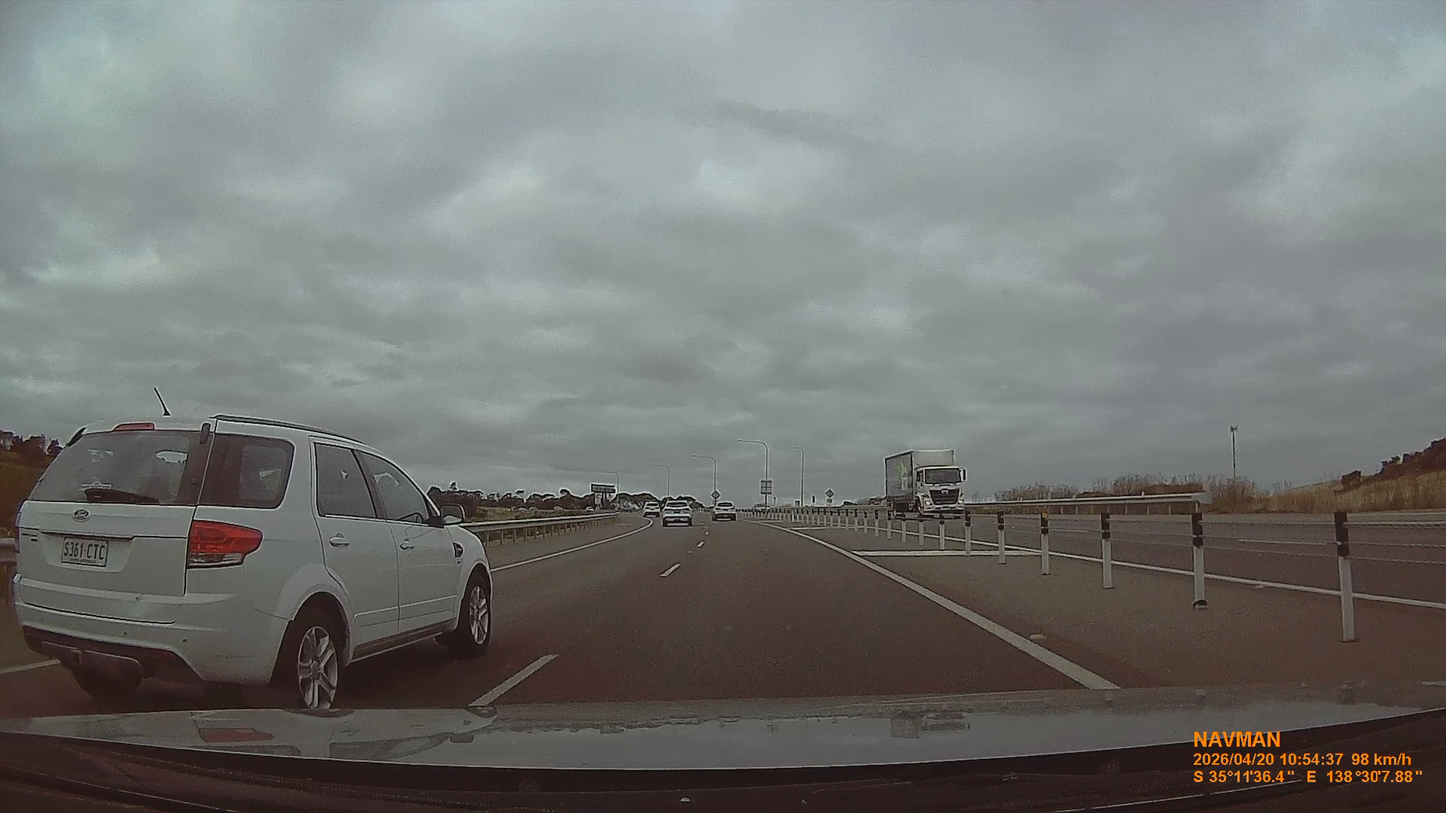road barriers: (965, 492, 1207, 514), (464, 514, 618, 544), (1333, 511, 1358, 641), (1191, 507, 1207, 609), (1098, 510, 1114, 589)
